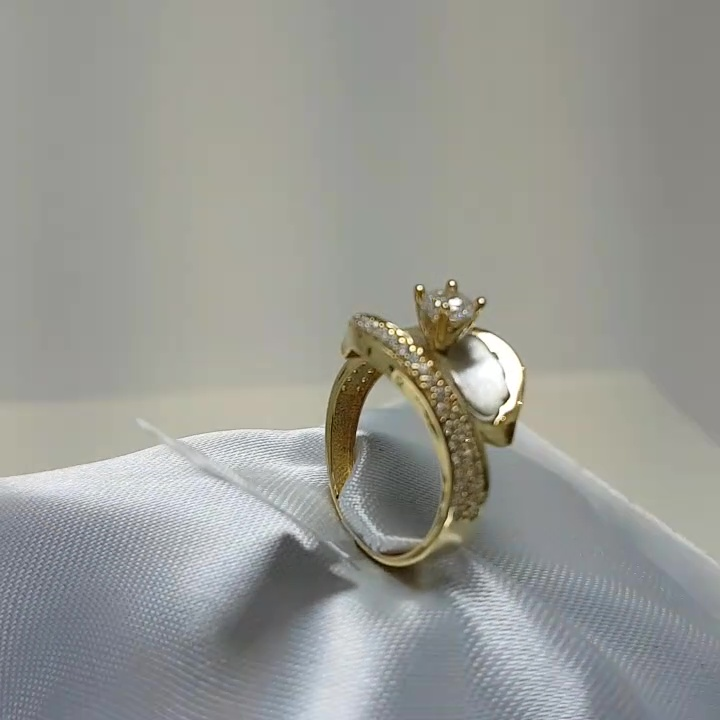Ring 6: (310, 265, 561, 588)
